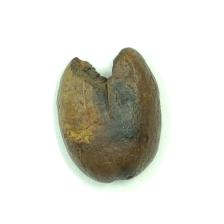NG: (56, 46, 134, 148)
